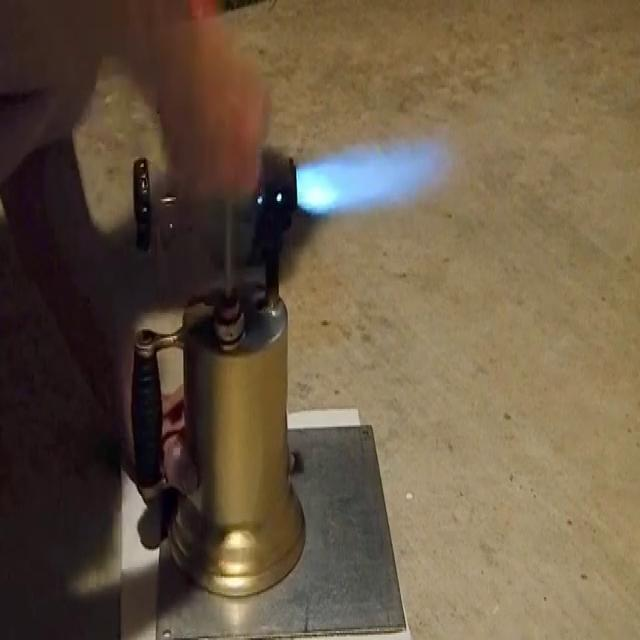fire: (288, 134, 456, 223)
